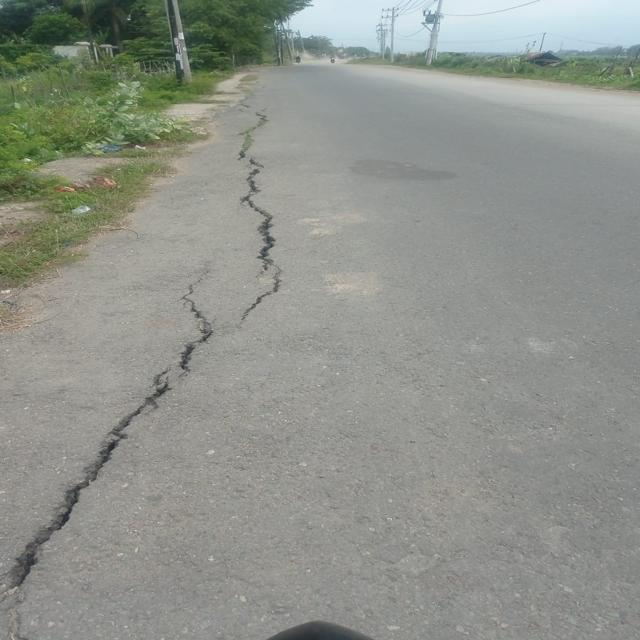Memanjang: (1, 103, 298, 611)
